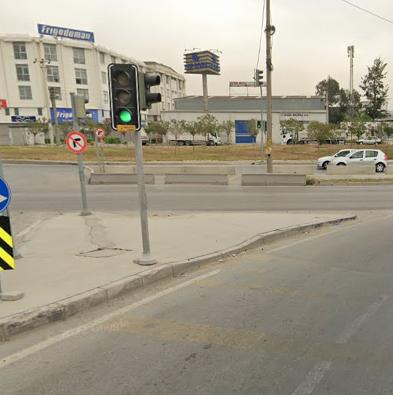greenlight: (109, 63, 140, 130)
rightturnsareforbidden: (66, 132, 86, 153), (95, 128, 104, 139)
